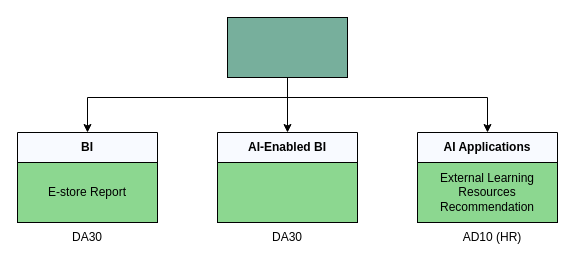
The diagram is 575 pixels wide and 270 high, and some of its shapes have lost their labels. The centre of each missing label's shape, as x and y in pixels:
"AI Assistants" belongs at (287,192).
"July & August" belongs at (287,47).
